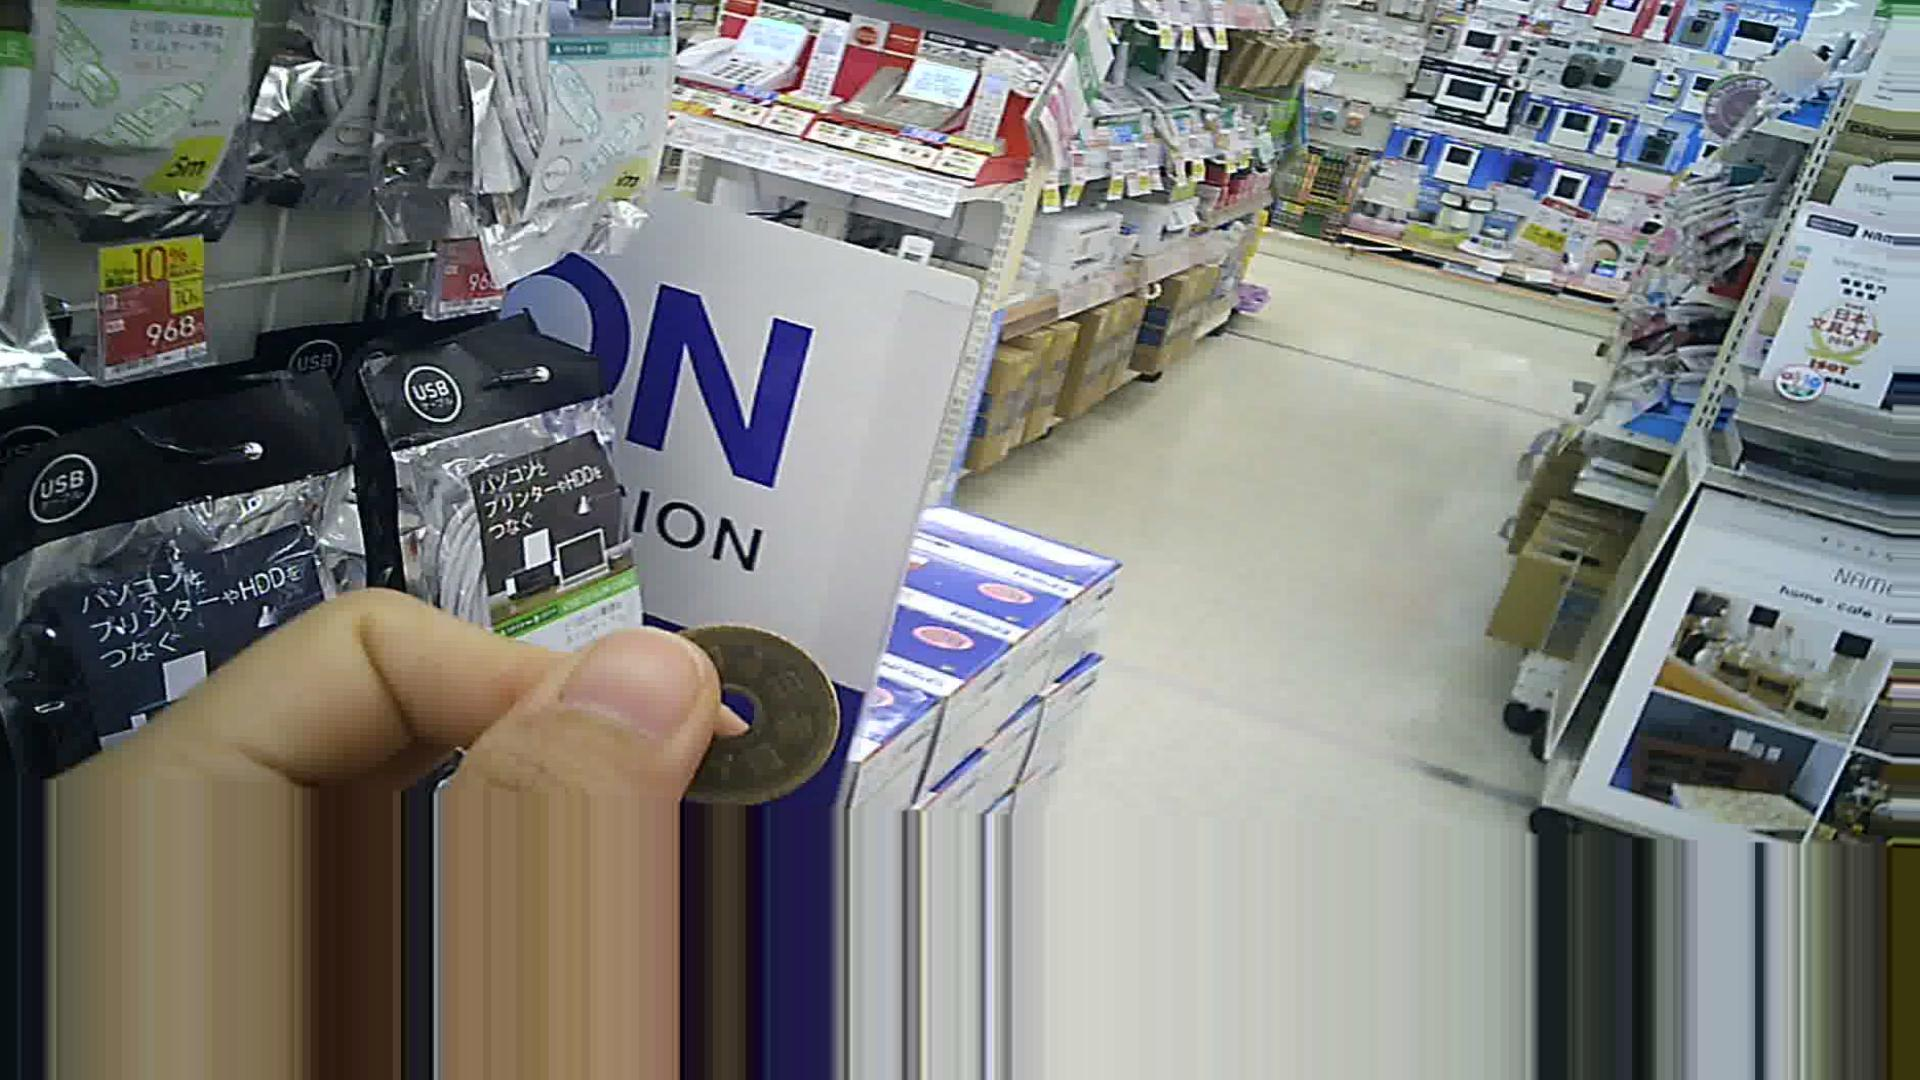5 Yen: (626, 618, 841, 799)
